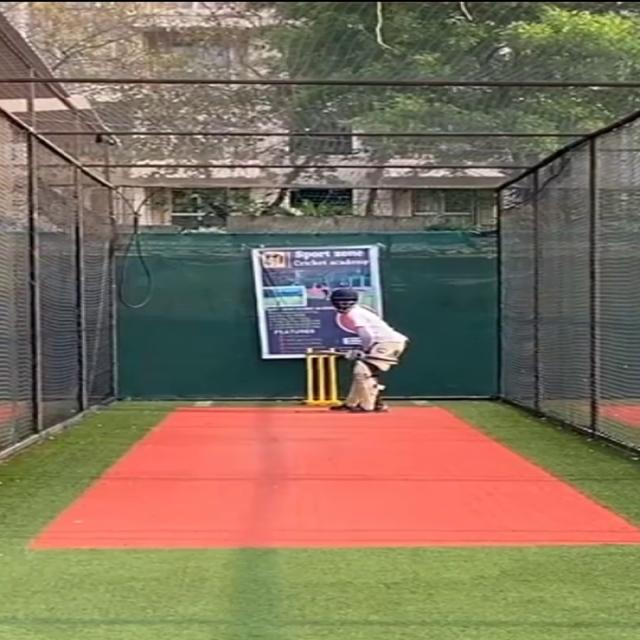stump: (304, 345, 342, 406)
